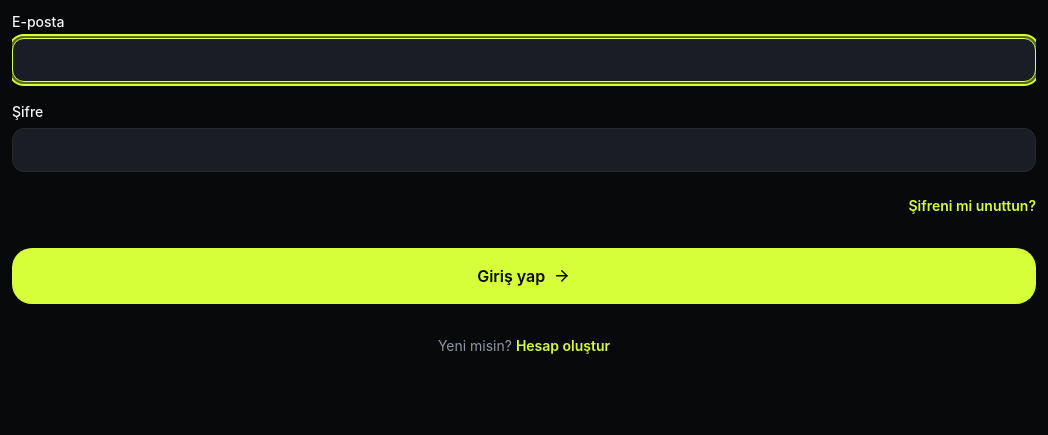
Scenario: LoginForm › speaks Turkish and links to sign-up and the forgotten-password page
Type "runner@example.com" into the field labelled "E-posta". click: (524,60)
box: [12, 38, 1036, 82]
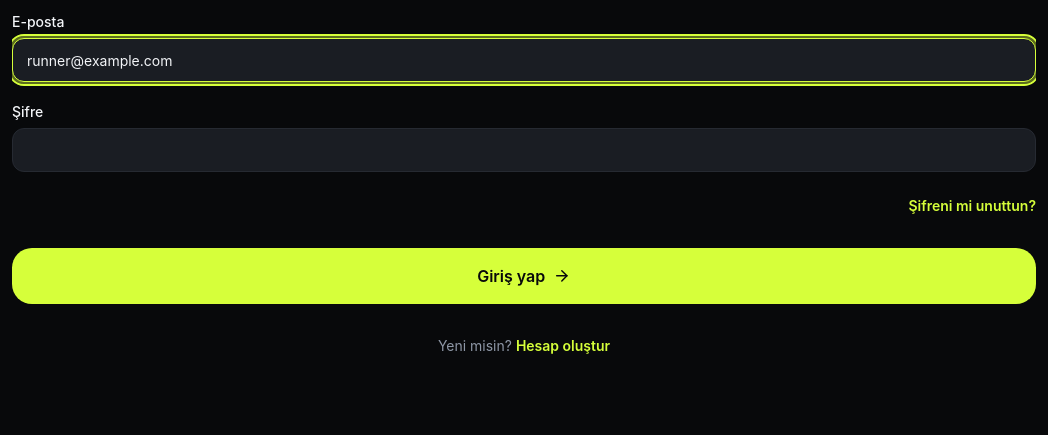
Type "nope" into the password field labelled "Şifre". click: (524,150)
box: [12, 128, 1036, 172]
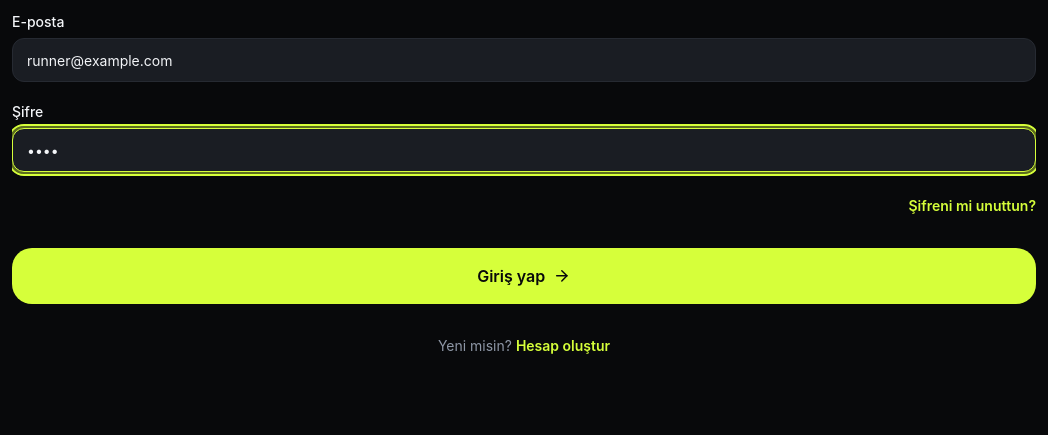
Click the button "Giriş yap". click: (524,276)
box: [12, 248, 1036, 304]
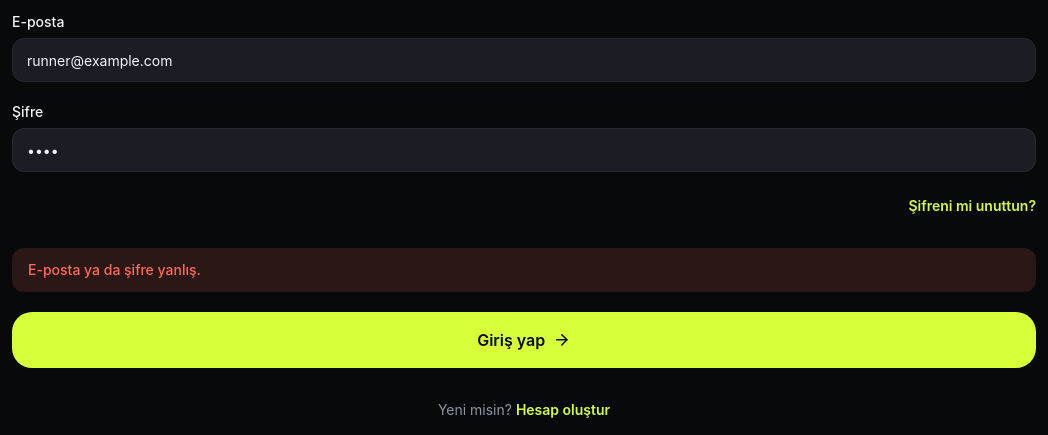
Check: the message reads "E-posta ya da şifre yanlış.", box [28, 261, 201, 278]
